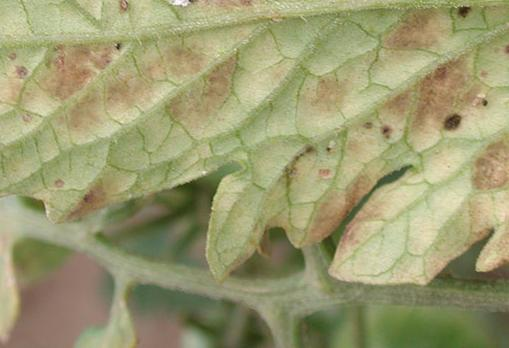Tomato mold leaf: (0, 0, 509, 324)
